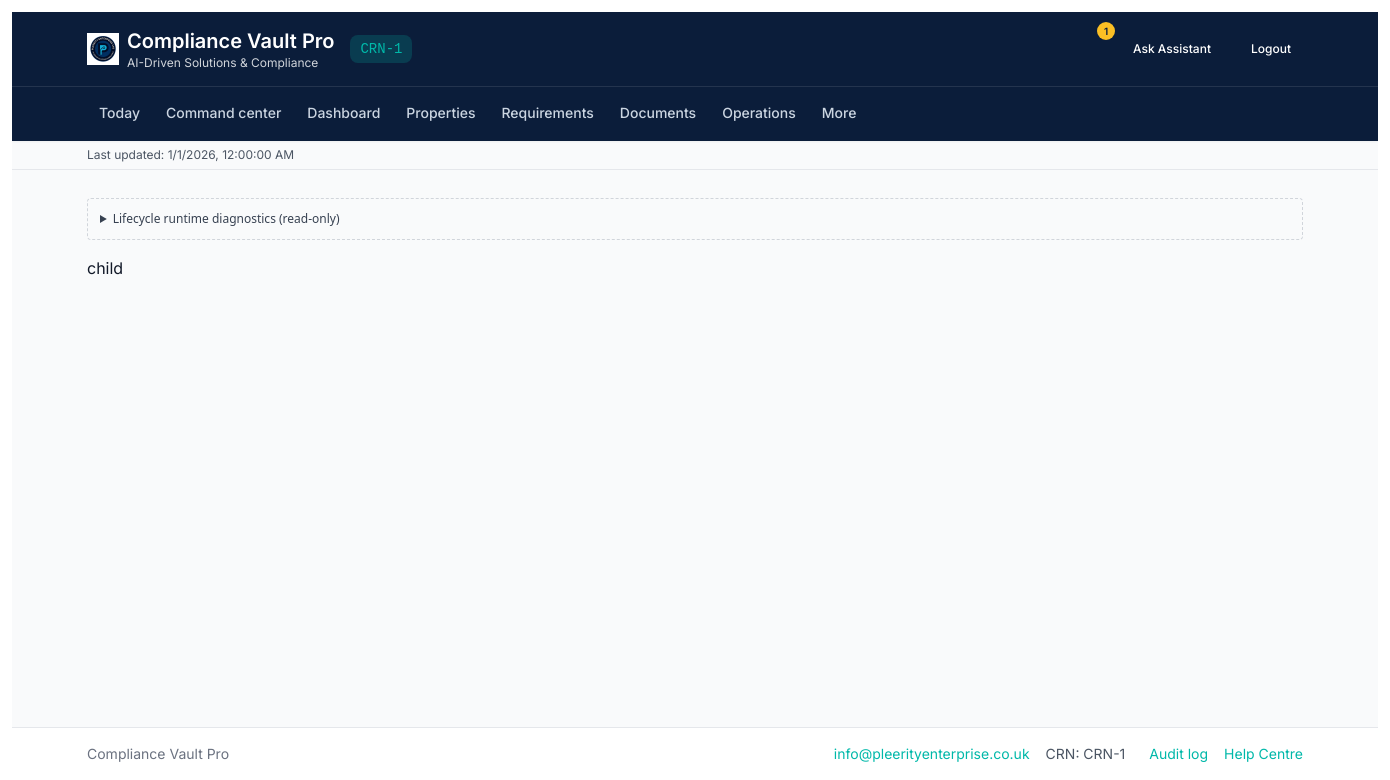
Test: ClientPortalLayout notification bell › does not treat list API failure as an empty inbox
Expected: the text named "1 unread" is shown, [1097,22,1115,40]
Click the button named "notifications". click: (1091, 46)
box: [1069,24,1113,68]
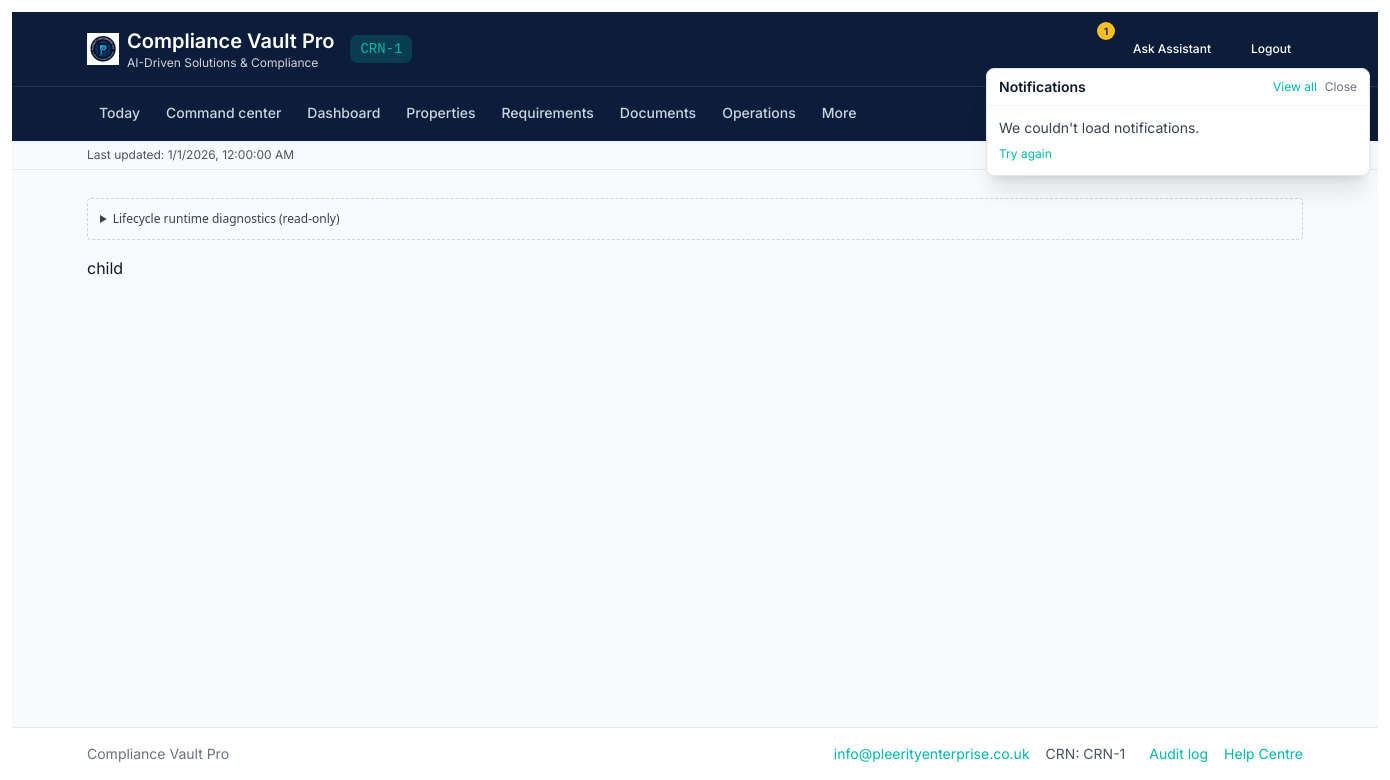
Result: the text "We couldn't load notifications." is shown at [999,119,1199,136]
Result: the button "Try again" is shown at [999,146,1052,162]
